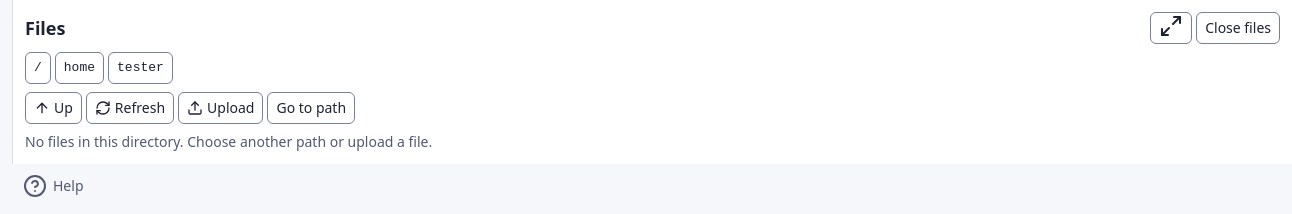
Test: browsing › goes up to the parent folder and stops at the root
This screenshot has width=1292, height=214.
Expected: the navigation bar named "Current folder" shows "tester", [108,52,173,84]
Click the button with aria-label "Up to parent folder": (53, 108) [25,92,82,124]
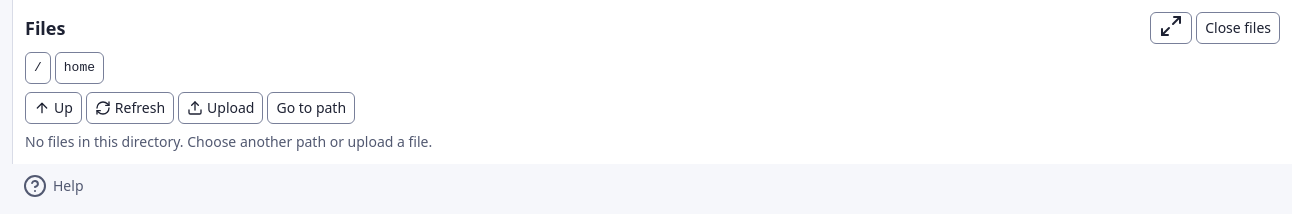
Expected: the navigation bar named "Current folder" does not show "tester", [25,52,104,84]
Click the button with aria-label "Up to parent folder": (53, 108) [25,92,82,124]
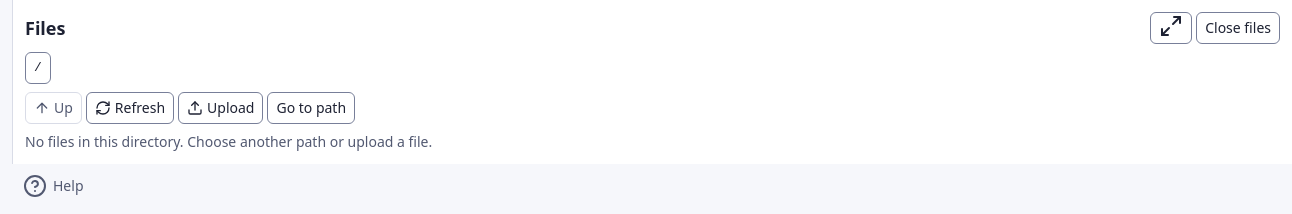
Expected: the button with aria-label "Up to parent folder" is disabled, [25,92,82,124]
